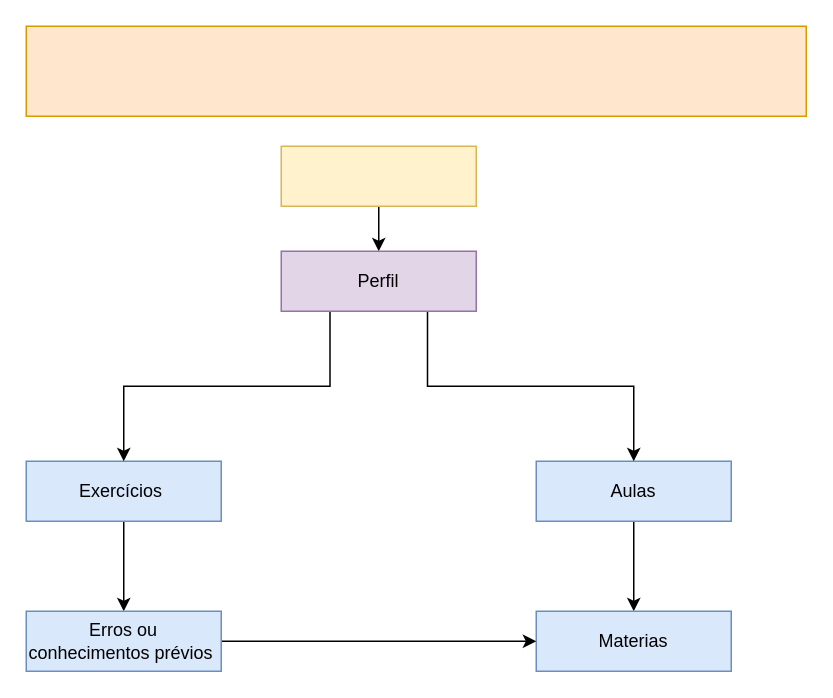
The diagram is 833 pixels wide and 698 high, and some of its shapes have lost their labels. The shapes that lost their labels are listed below. From the top down, each one's centre as x and y in pixels, then its label:
pixel 415 70: Matematica personalizada
pixel 378 175: Alunos
